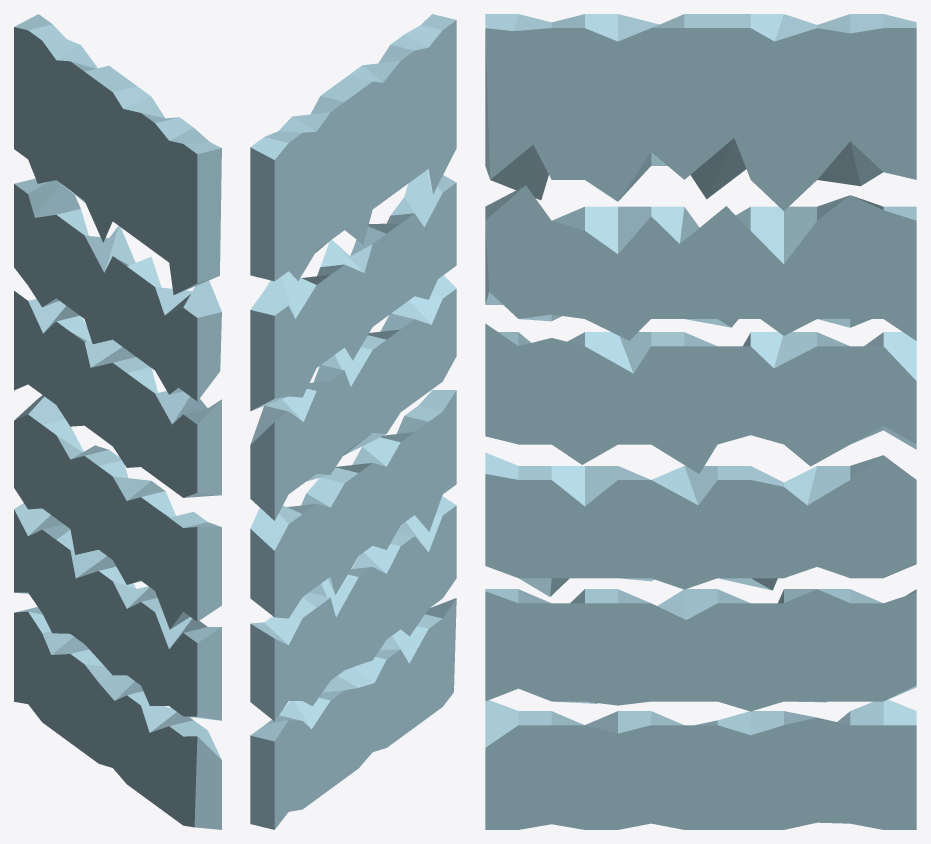
Rendered from POEM SHARDS MODEL FBX.fbx.
3 renders of one model, left to right at view 1: azimuth 30°, elevation 25°; view 2: azimuth 150°, elevation 25°; view 3: azimuth 270°, elevation 25°, orthographic. The views are drawn at different scales.
Parts seen in each view (by area): view 1: pCube1, pCube2, pCube4, pCube6, pCube3, pCube5; view 2: pCube1, pCube2, pCube4, pCube6, pCube3, pCube5; view 3: pCube1, pCube2, pCube6, pCube3, pCube4, pCube5.
Boxes of the visible parts, left/top/right/bottom form: pCube1: left=14, top=14, right=221, bottom=294; pCube2: left=14, top=178, right=221, bottom=401; pCube4: left=14, top=395, right=221, bottom=629; pCube6: left=14, top=607, right=221, bottom=829; pCube3: left=14, top=291, right=221, bottom=497; pCube5: left=14, top=503, right=221, bottom=720; pCube1: left=250, top=14, right=456, bottom=281; pCube2: left=250, top=171, right=456, bottom=411; pCube4: left=250, top=390, right=456, bottom=618; pCube6: left=250, top=598, right=456, bottom=829; pCube3: left=250, top=275, right=456, bottom=520; pCube5: left=250, top=496, right=456, bottom=721; pCube1: left=485, top=14, right=916, bottom=210; pCube2: left=485, top=185, right=916, bottom=340; pCube6: left=485, top=699, right=916, bottom=829; pCube3: left=485, top=323, right=916, bottom=473; pCube4: left=485, top=452, right=916, bottom=596; pCube5: left=485, top=589, right=916, bottom=711.
Bounding box in the file's own units: 0.00496 × 0.1313 × 0.064.
